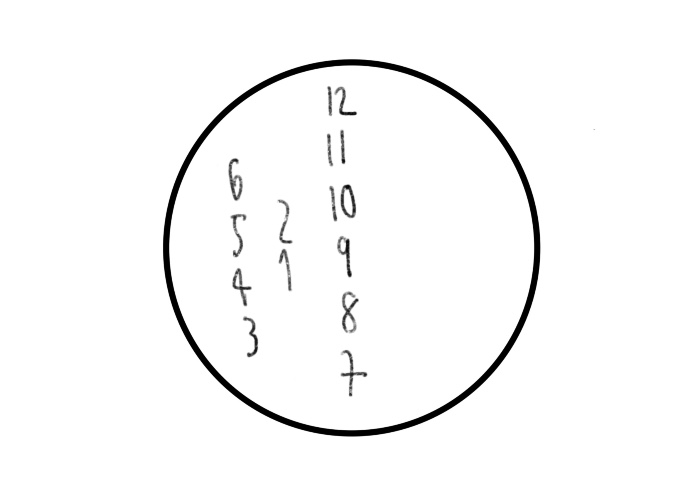eight: (334, 287, 364, 337)
eleven: (321, 126, 353, 168)
five: (227, 208, 253, 259)
four: (229, 268, 253, 307)
nine: (328, 234, 358, 280)
one: (274, 248, 299, 290)
seven: (337, 348, 366, 403)
six: (226, 152, 246, 201)
ten: (325, 183, 359, 225)
three: (238, 312, 260, 358)
twelve: (322, 82, 359, 118)
two: (271, 196, 295, 245)
